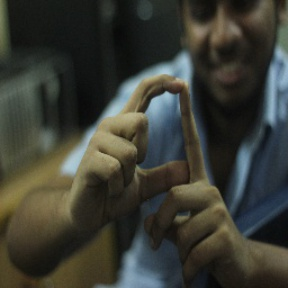D: (98, 71, 221, 209)
